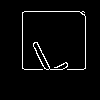L: (25, 25, 70, 78)
